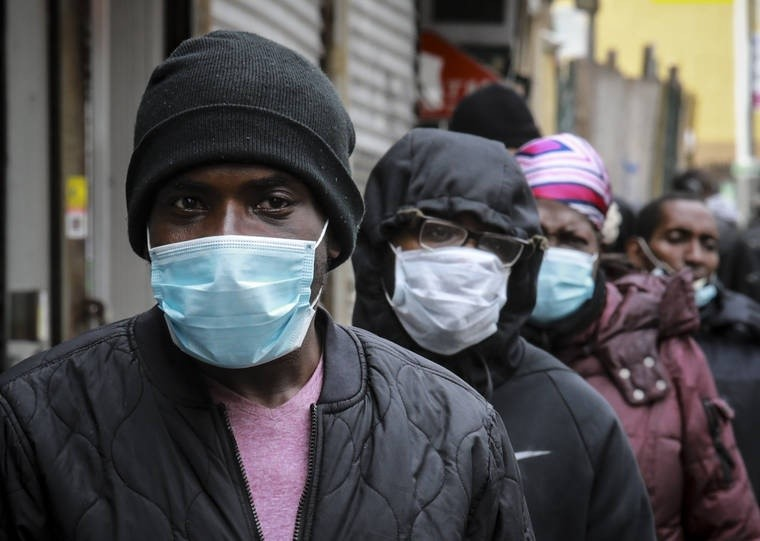face_with_mask: (132, 27, 353, 373), (373, 126, 540, 358), (518, 132, 621, 319), (636, 194, 724, 312)
